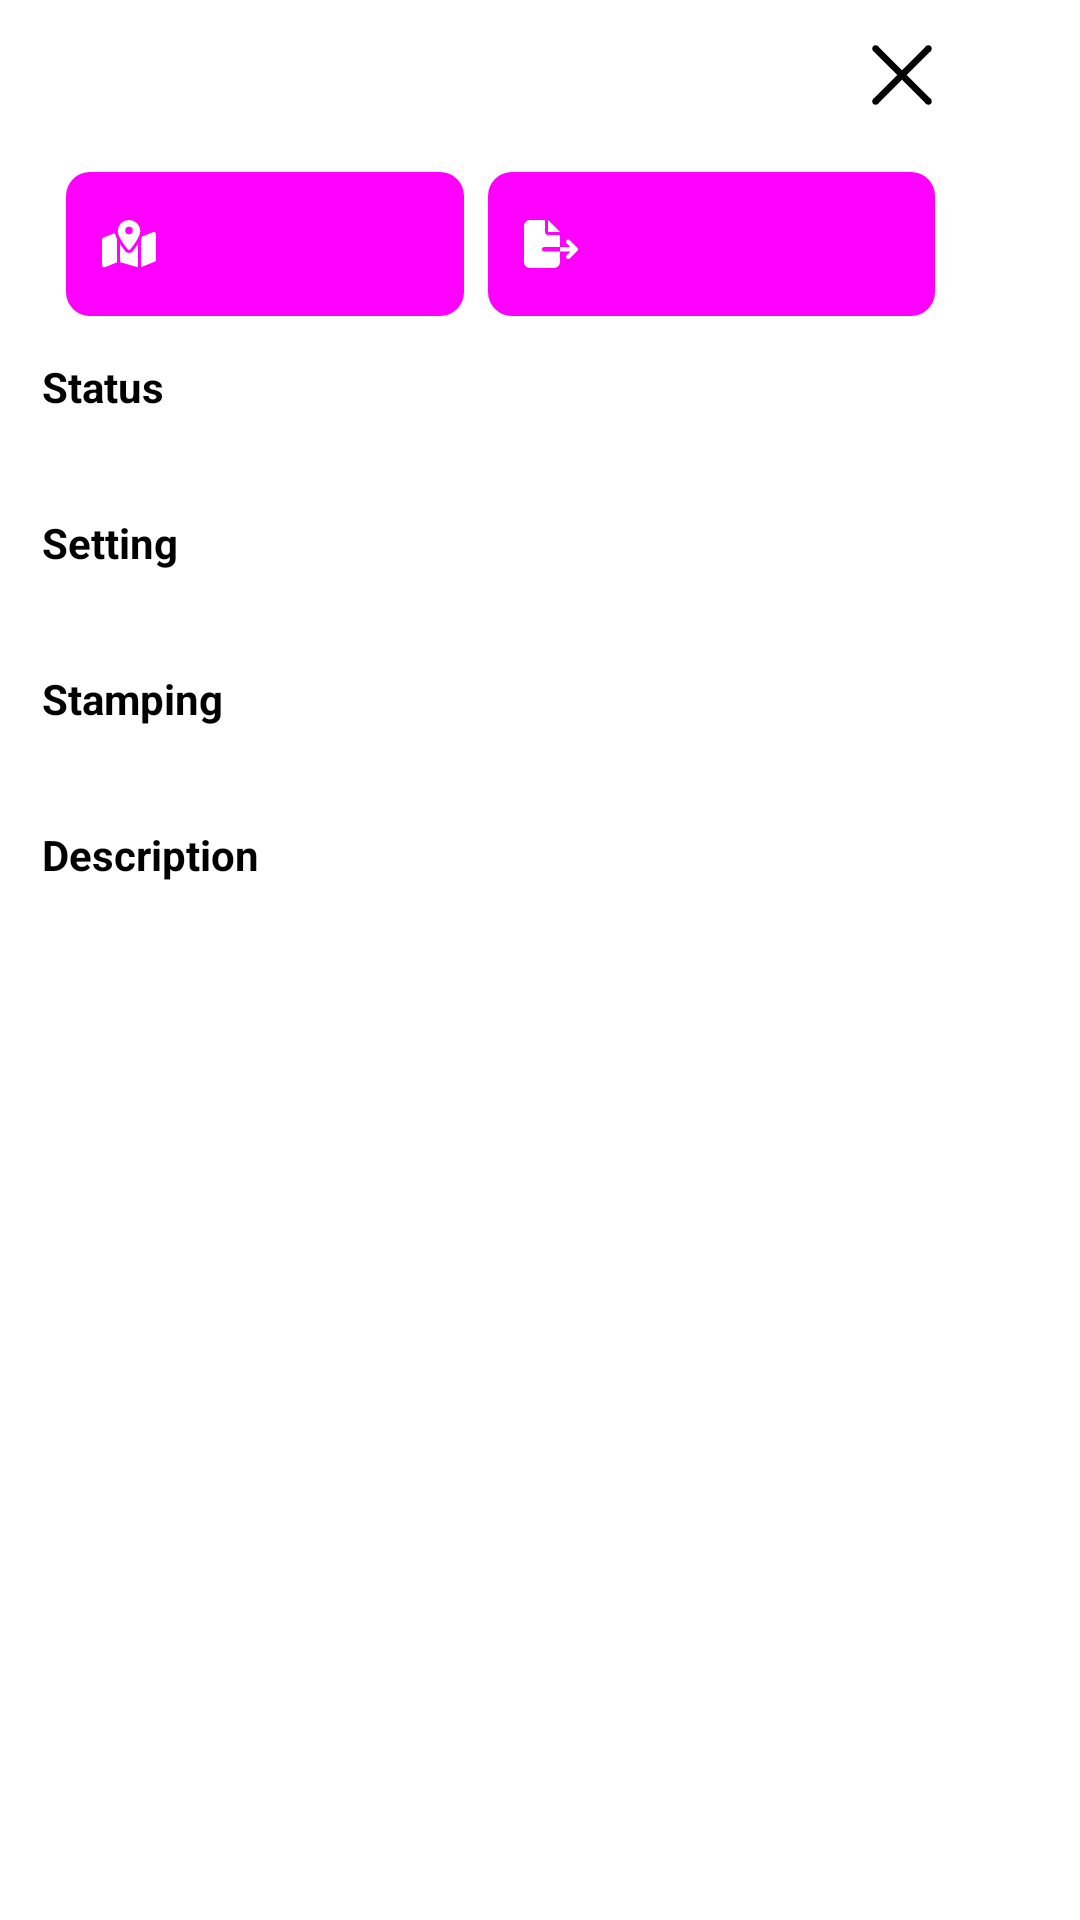

Screen size 1080 × 1920. Icon name, then its center in pixels as point (x, y):
Close: point (902, 75)
